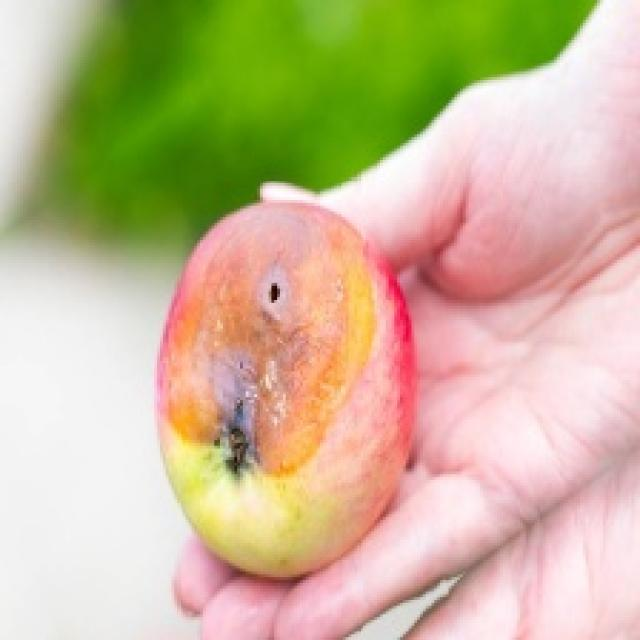rotten_apple: (167, 204, 408, 573)
